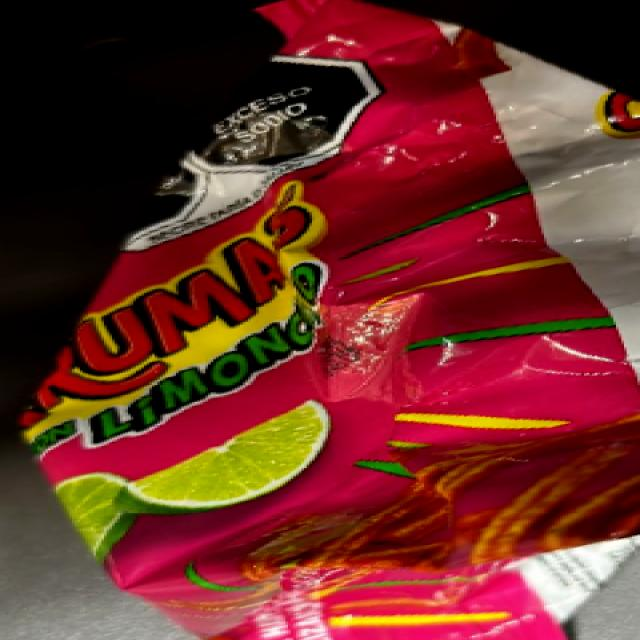churrumais: (42, 145, 584, 619)
